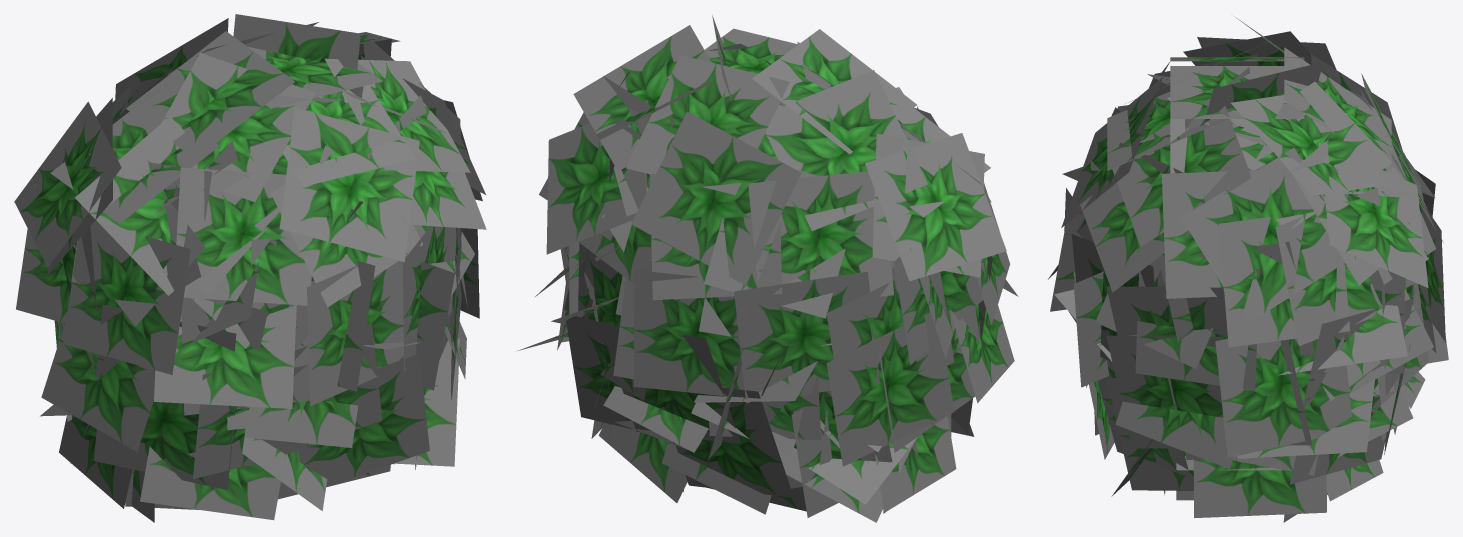
Rendered from Planar Bush.fbx.
3 views of the same model, side by side, from view 1: azimuth 30°, elevation 25°; view 2: azimuth 150°, elevation 25°; view 3: azimuth 270°, elevation 25° (orthographic). The views are drawn at different scales.
Visible parts, largest first — view 1: polySurface1; view 2: polySurface1; view 3: polySurface1.
Boxes of the visible parts, x1,y1,x2,y2 form: polySurface1: [14, 14, 486, 522]; polySurface1: [518, 15, 1018, 522]; polySurface1: [1048, 17, 1448, 522].
Size of the model in its own units: 10.85 by 10.12 by 8.95.
